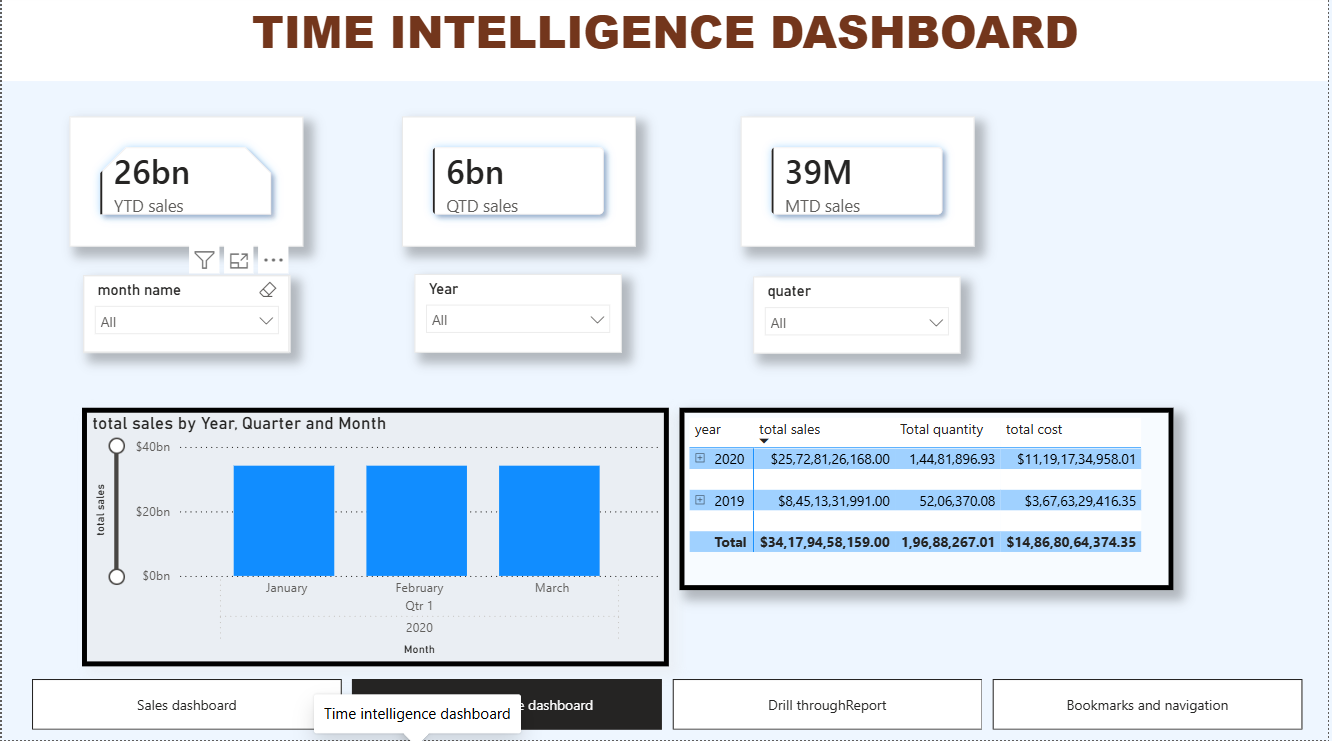

The dashboard page shown, as its layout file describes it:
{"tool":"powerbi","page":{"name":"Time intelligence dashboard","canvas":[1280,720],"ordinal":1},"visuals":[{"type":"textbox","box":[0,0,1280.3,83.7],"z":0},{"type":"clusteredColumnChart","fields":{"Y":["CY.total sales"],"Category":["CY.Bill Date.Variation.Date Hierarchy.Year","CY.Bill Date.Variation.Date Hierarchy.Quarter","CY.Bill Date.Variation.Date Hierarchy.Month","CY.Bill Date.Variation.Date Hierarchy.Day"]},"box":[77,399.7,566,249.5],"z":1000},{"type":"cardVisual","fields":{"Data":["CY.YTD sales"]},"box":[64.5,117.9,225.9,125.4],"z":2000},{"type":"cardVisual","fields":{"Data":["CY.QTD sales"]},"box":[386,117.9,225.9,125.4],"z":3000},{"type":"cardVisual","fields":{"Data":["CY.MTD sales"]},"box":[712.5,117.9,225.9,125.4],"z":4000},{"type":"slicer","fields":{"Values":["Dim date.Year"]},"box":[398.5,270.6,199.8,75.7],"z":5000},{"type":"slicer","fields":{"Values":["calender.month name"]},"box":[78.2,271.8,199.8,74.5],"z":6000},{"type":"slicer","fields":{"Values":["calender.quater"]},"box":[724.9,273.1,199.8,74.5],"z":7000},{"type":"pivotTable","fields":{"Rows":["calender.year","calender.quater","calender.month name"],"Values":["CY.total sales","CY.Total quantity","CY.total cost"]},"box":[654.2,399.7,476.7,176.3],"z":8000},{"type":"pageNavigator","box":[28.5,661.6,1227.6,49.7],"z":9000}]}

Visuals, with their boxes in screenshot pixels (x1, y1, x2, y2), scaled from the page's 1280x720 canvas onto the 1332x741 screenshot:
textbox: [0,0,1331,86]
clusteredColumnChart - CY.total sales x CY.Bill Date.Variation.Date Hierarchy.Year: [80,411,669,668]
cardVisual - CY.YTD sales: [67,121,302,250]
cardVisual - CY.QTD sales: [402,121,637,250]
cardVisual - CY.MTD sales: [741,121,977,250]
slicer - Dim date.Year: [415,278,623,356]
slicer - calender.month name: [81,280,289,356]
slicer - calender.quater: [754,281,962,358]
pivotTable - calender.year x calender.quater: [681,411,1177,593]
pageNavigator: [30,681,1307,732]
